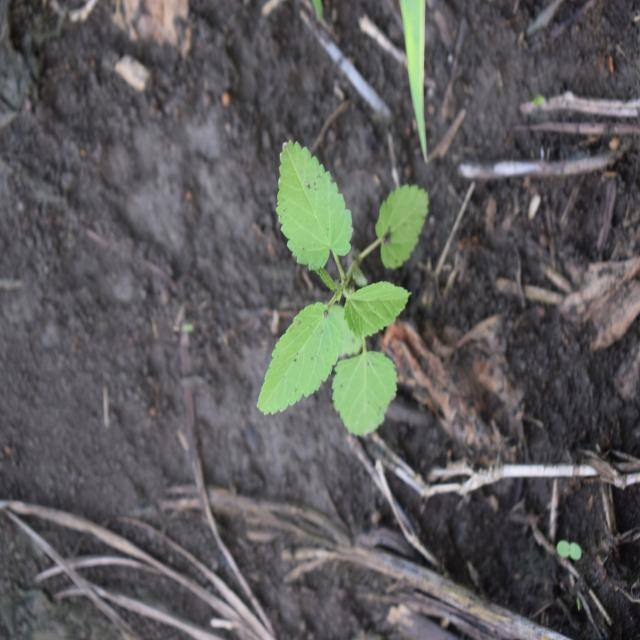PricklySida: (254, 138, 430, 441)
